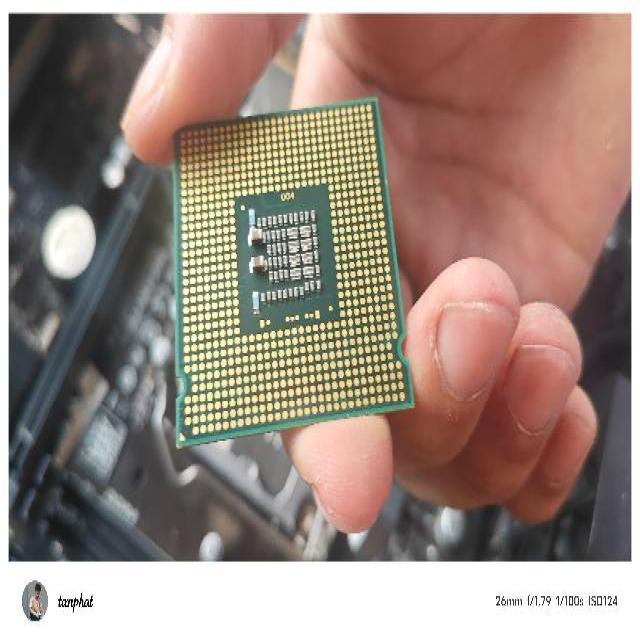CPU: (166, 96, 417, 448)
